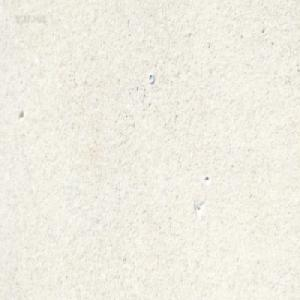Washer: (148, 71, 154, 83)
